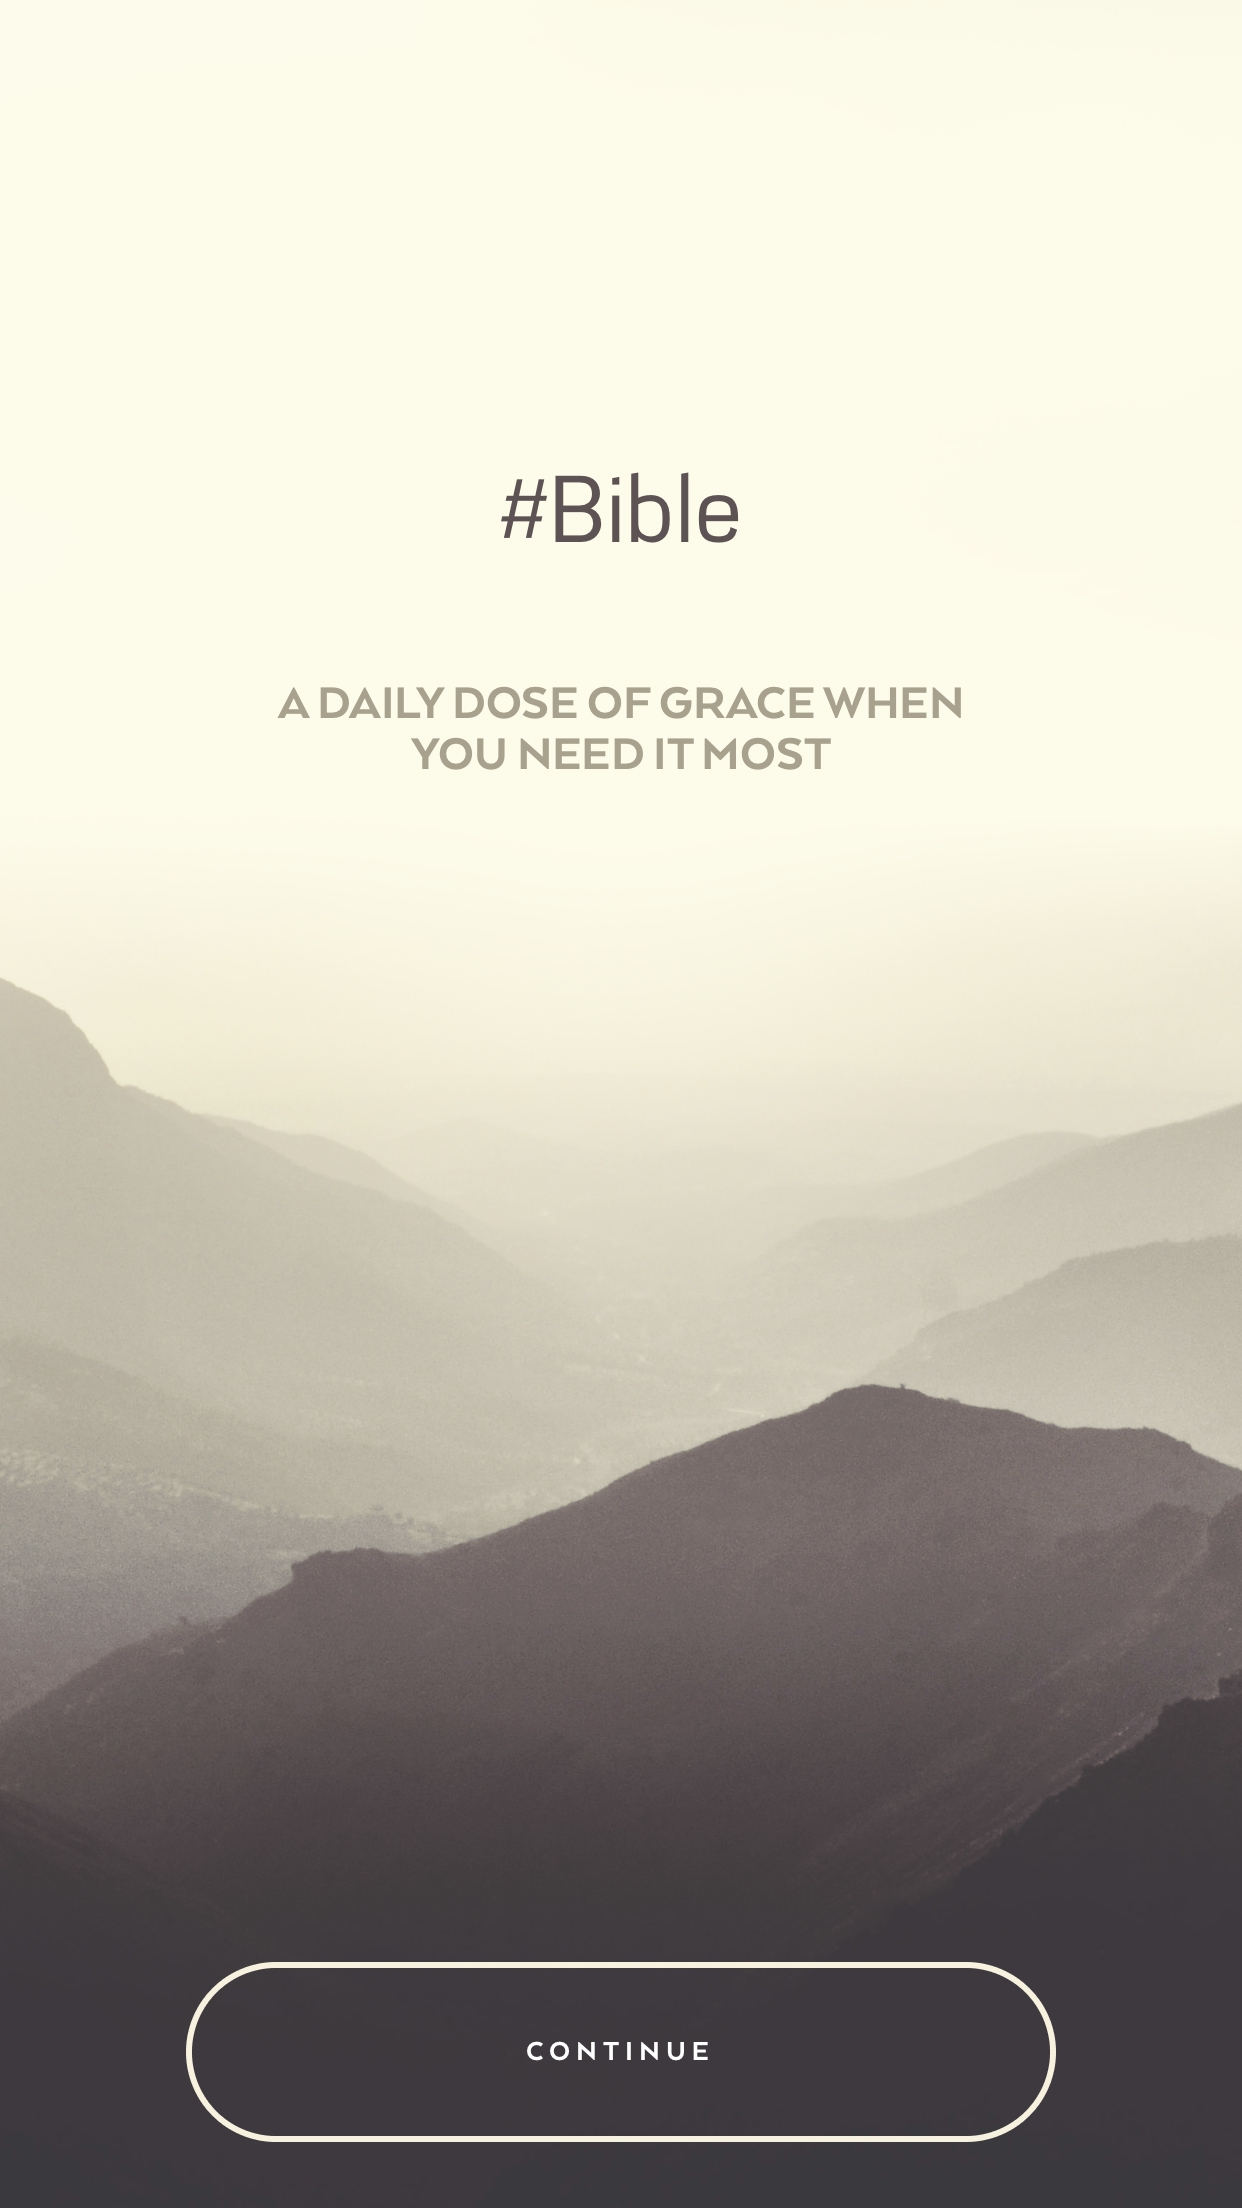BackgroundImage: (2, 2, 1242, 2208)
Text: (278, 685, 963, 772), (500, 472, 742, 544)
TextButton: (187, 1962, 1057, 2143)
